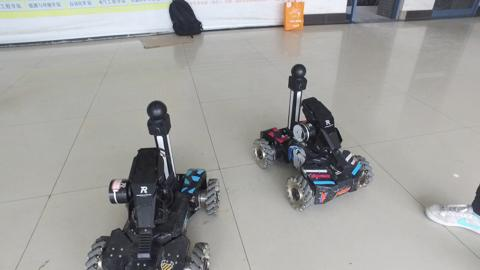chariot: (83, 101, 223, 270), (251, 60, 381, 216)
